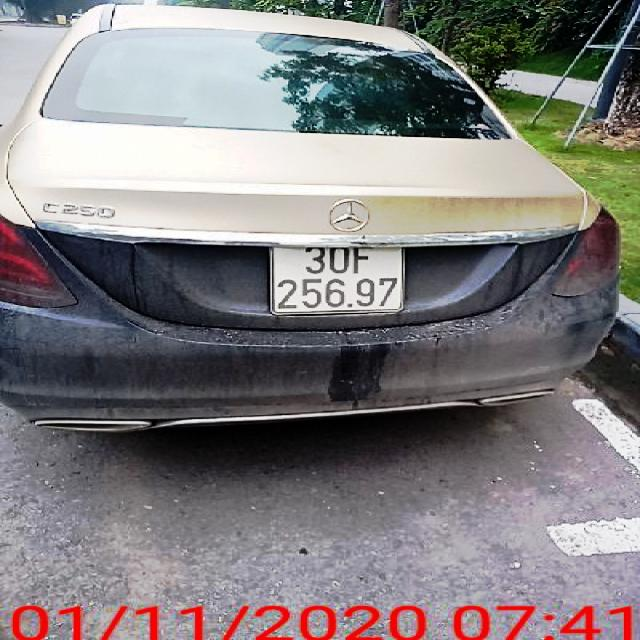license_plate: (273, 245, 407, 315)
